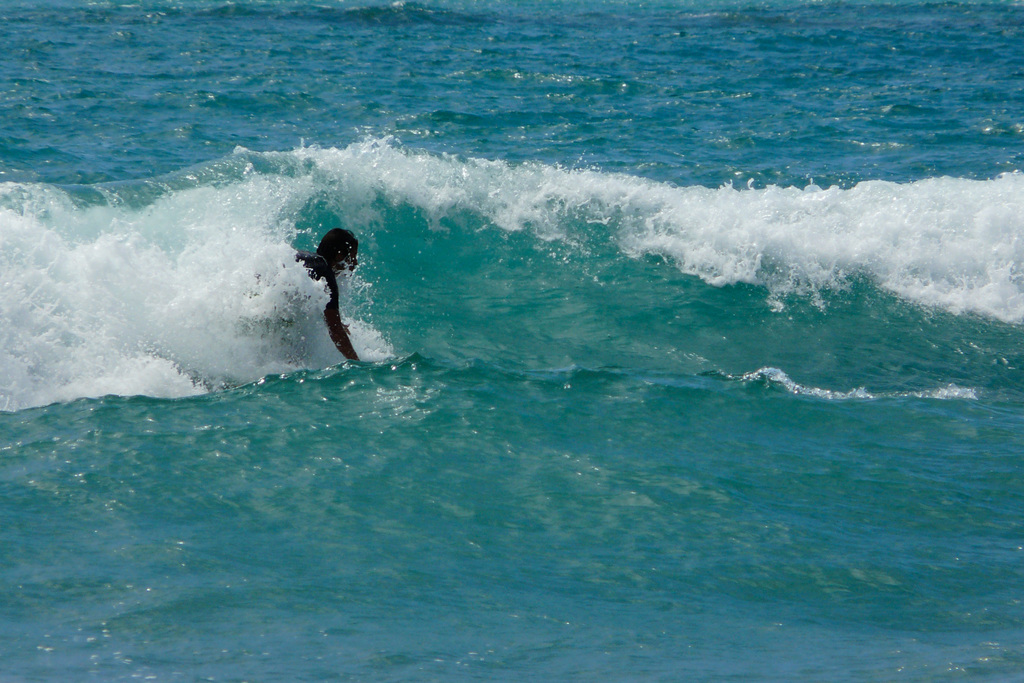Person: (242, 227, 360, 369)
